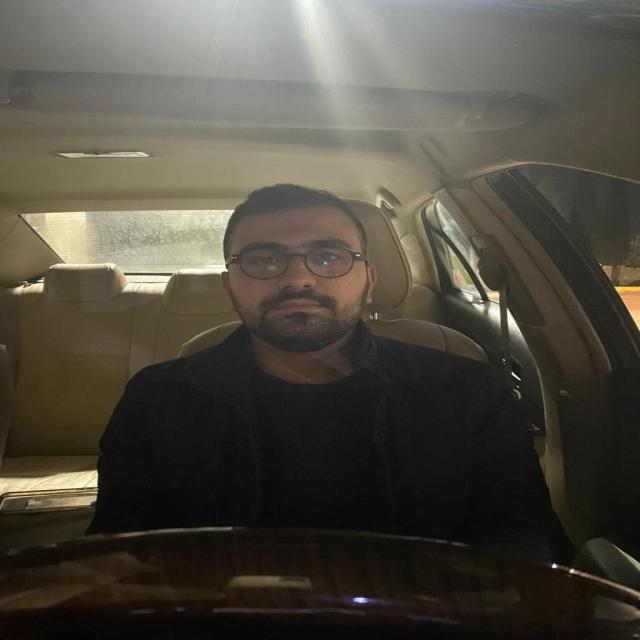person: (221, 191, 389, 348)
